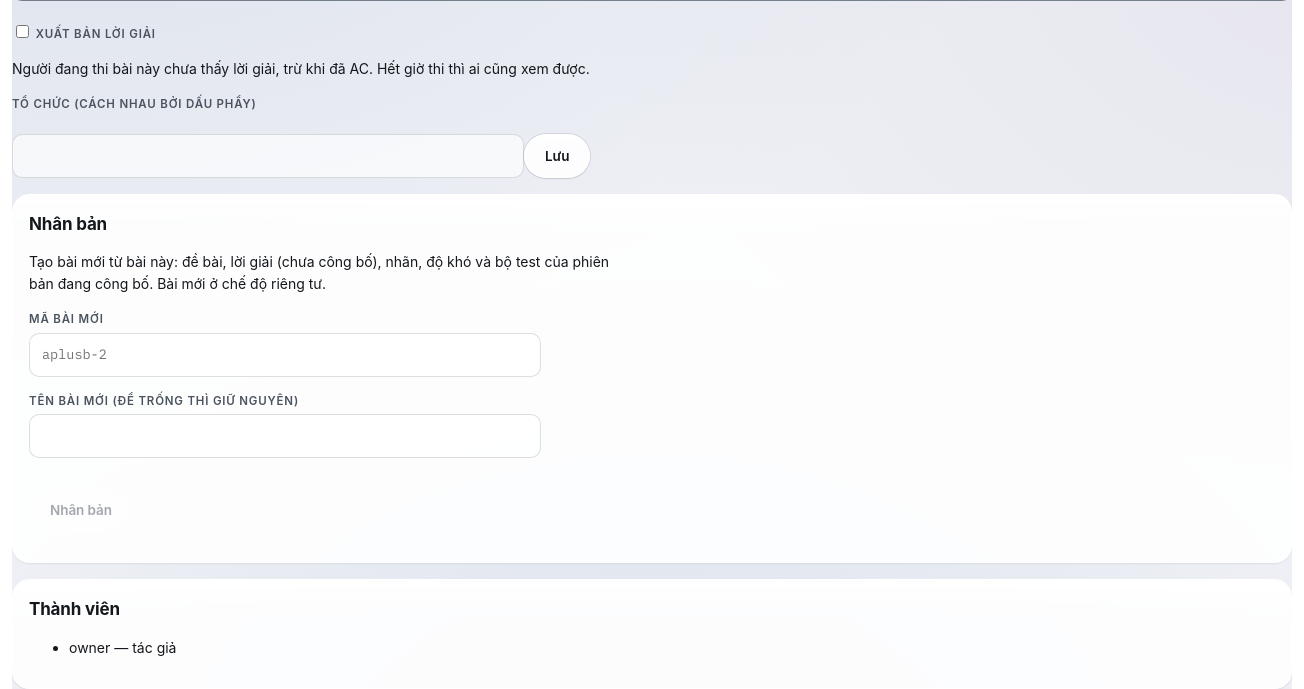
cloning a problem from the edit screen (D88) › omits the name when it is blank, and shows the server's own refusal code
(page scrolled)
Type "taken" into the field labelled "Mã bài mới" at (285, 355), box [29,333,541,377]
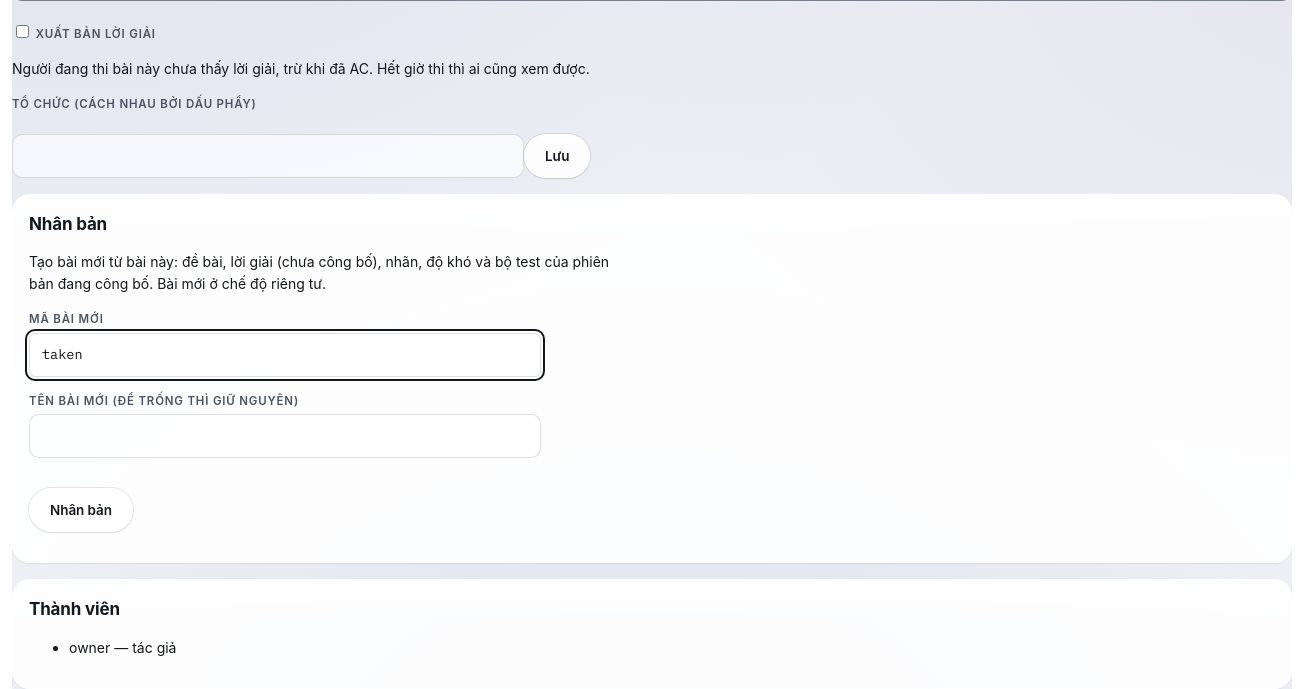
Click the button "Nhân bản" at (81, 510), box [29,488,133,532]
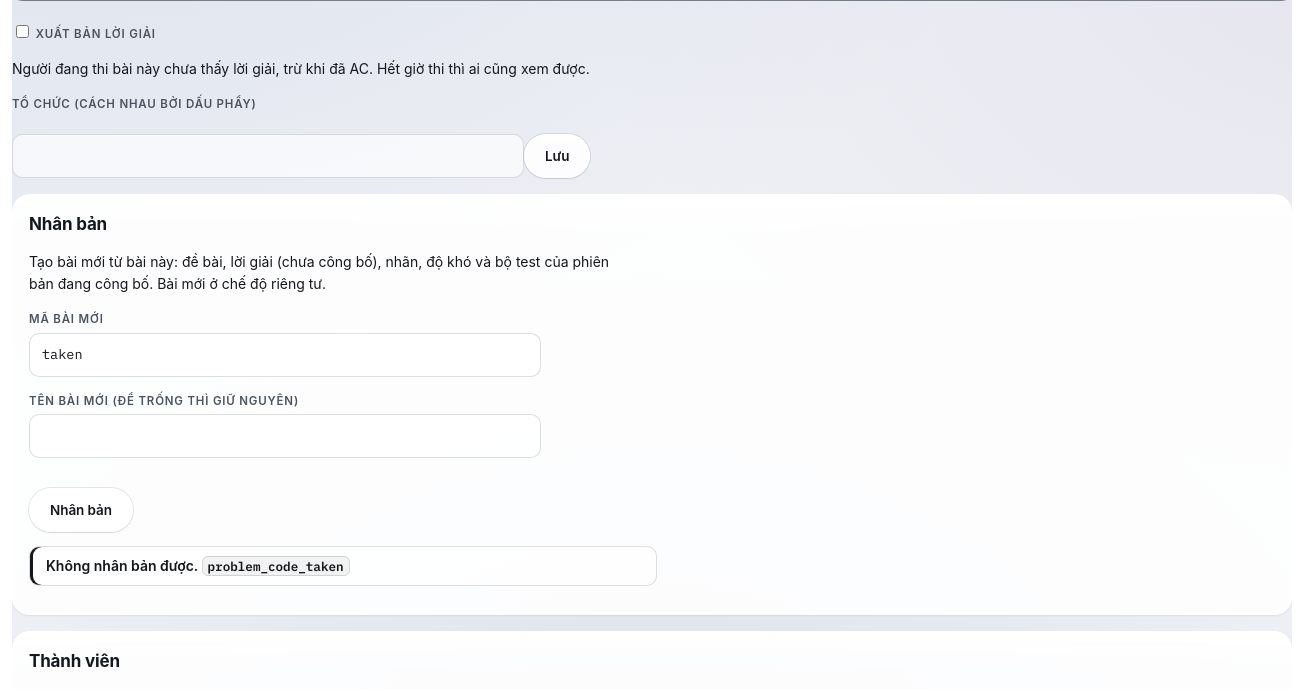
Result: the message shows "problem_code_taken" at [208,558,344,574]
